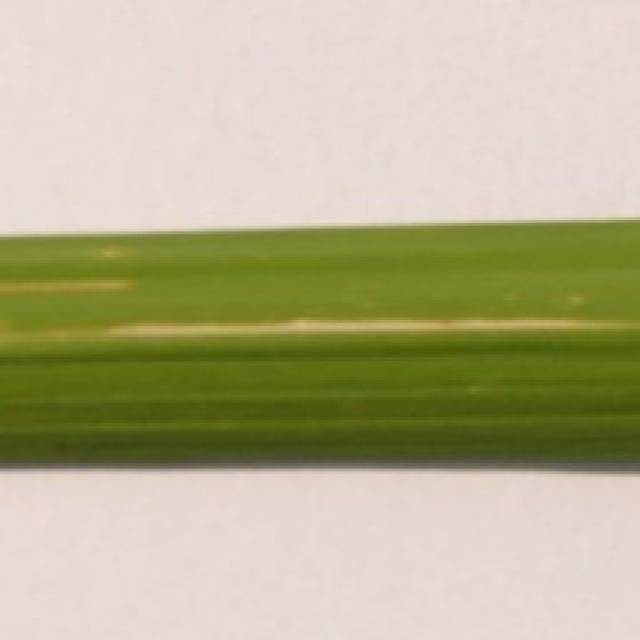Rice___Bacterial_Leaf_Blight: (0, 215, 637, 479)
